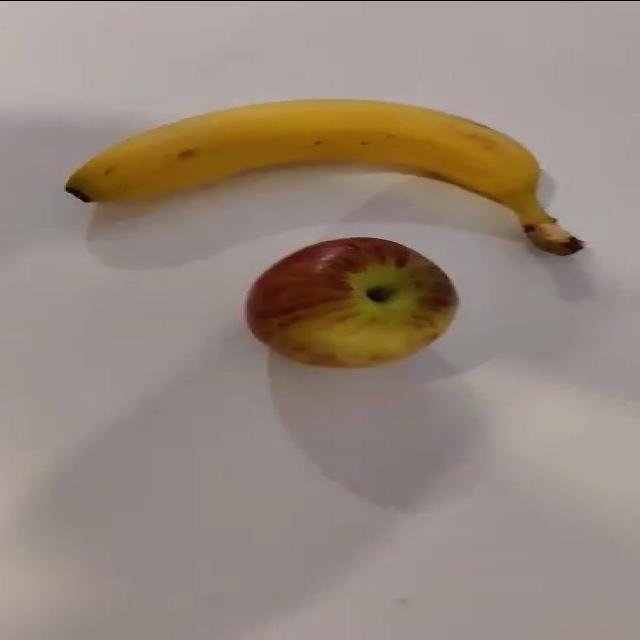Apple: (241, 235, 463, 372)
Banana: (64, 98, 544, 208)
